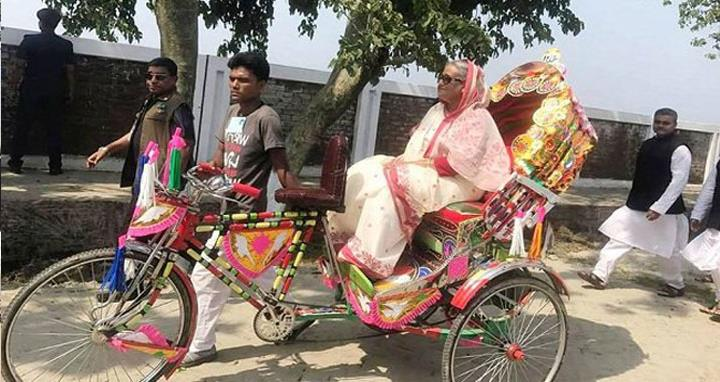Rickshaw: (16, 9, 565, 379)
